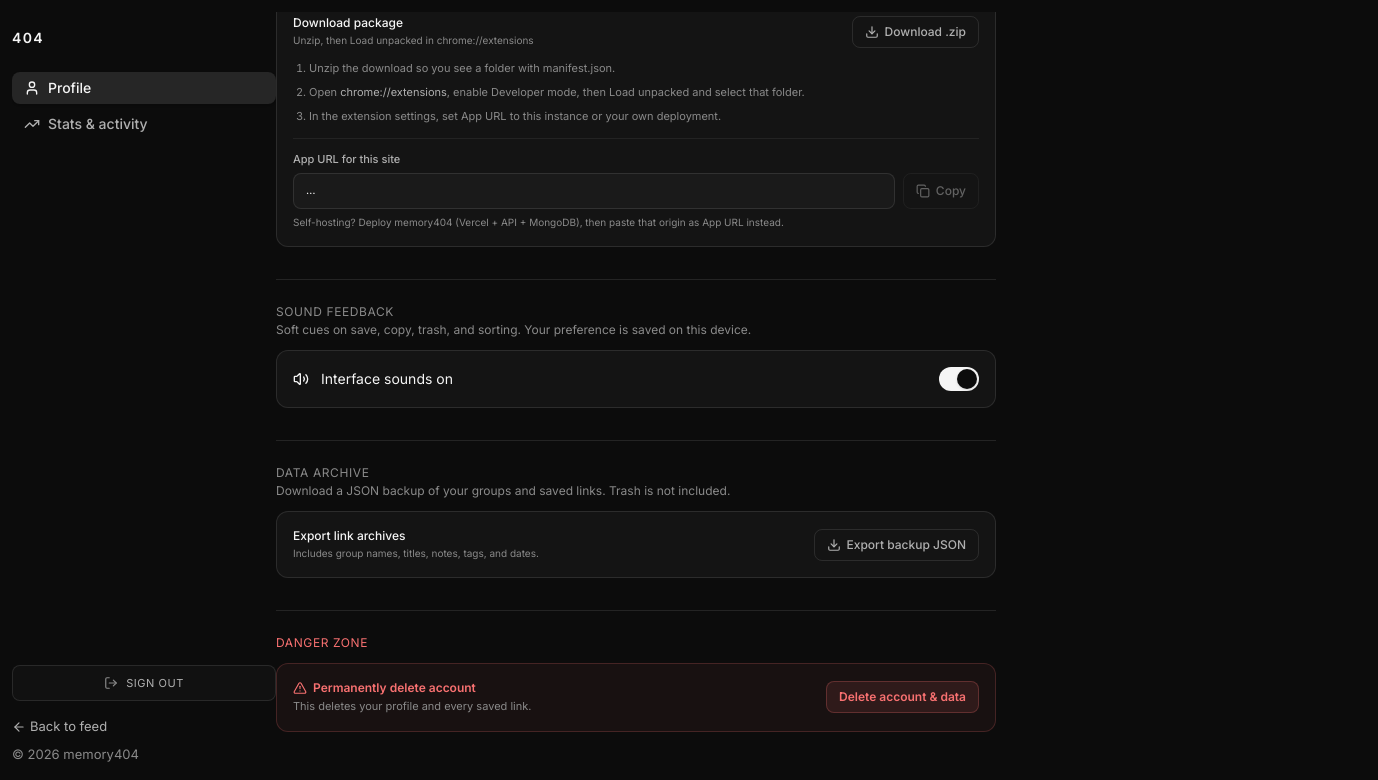
it: library export › says when the backup cannot reach memory404
(page scrolled)
Click the button "Export backup JSON" at (896, 545), box [814,529,979,561]
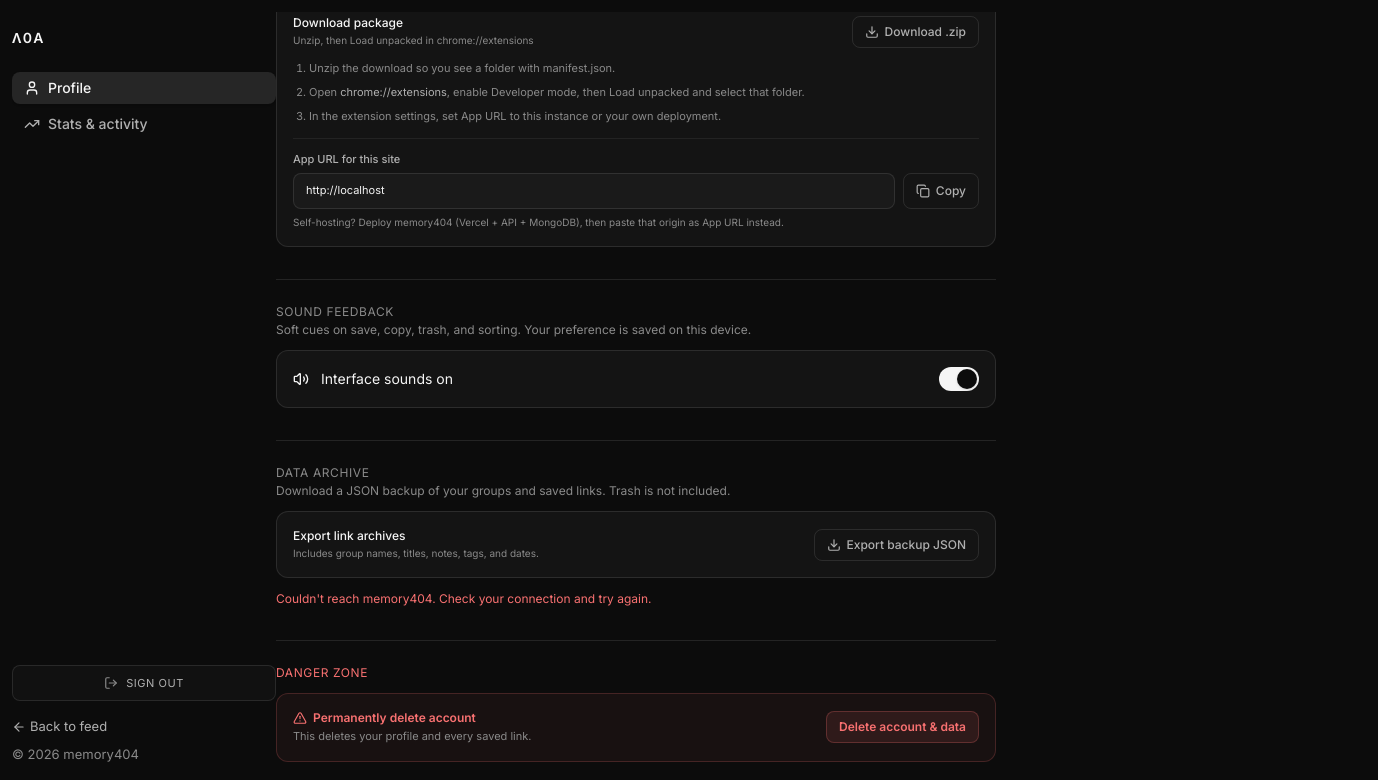
Now the message shows "Check your connection", box [276,591,652,606]
